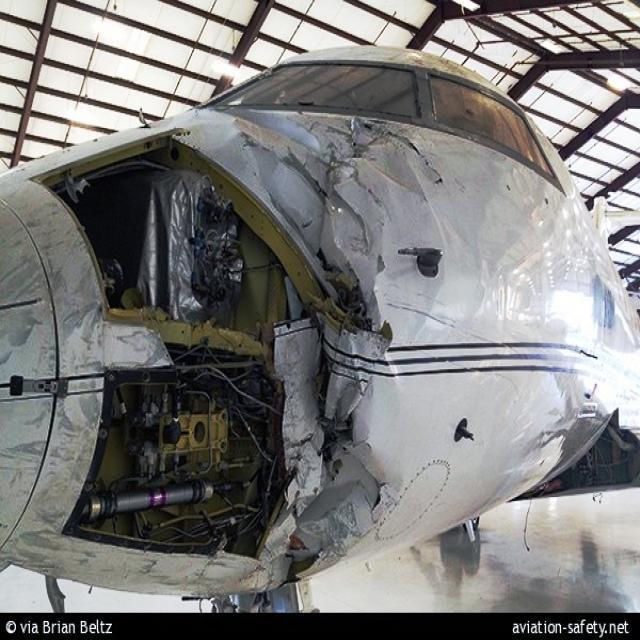crack: (364, 124, 447, 190), (351, 454, 392, 517)
